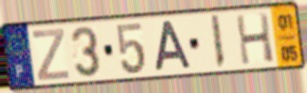3: (69, 25, 102, 80)
5: (113, 20, 147, 75)
A: (153, 19, 194, 74)
H: (234, 11, 277, 67)
I: (209, 13, 227, 71)
Z: (30, 27, 71, 83)
